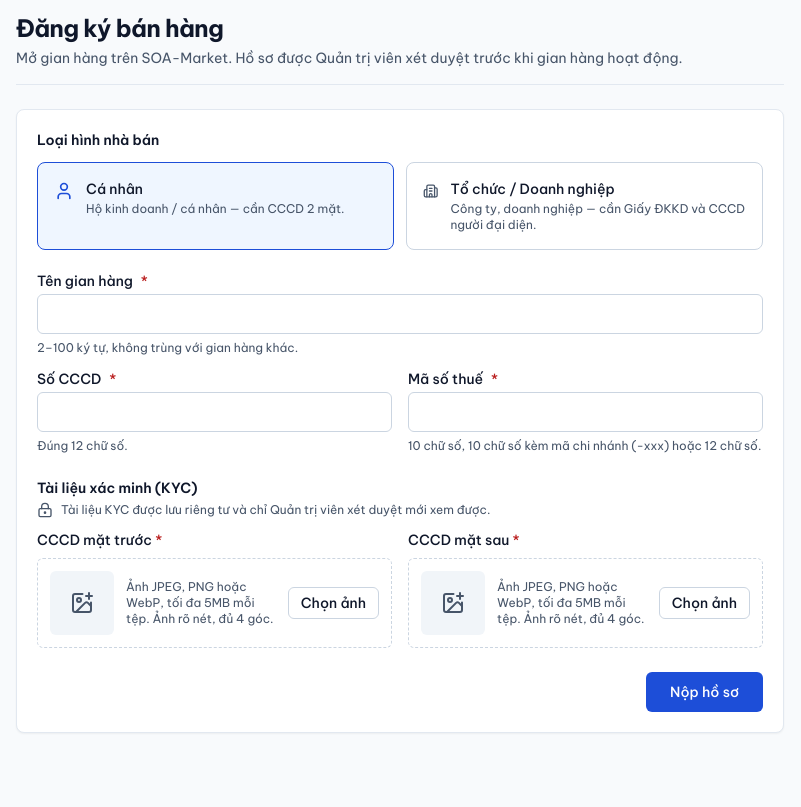
Test: SellerOnboardingPage (/seller-onboarding — FR-SEL-001) › switches documents and identity label for ORGANIZATION
Expected: the button "Nộp hồ sơ" is shown, [646,672,763,712]
Click the text "Tổ chức / Doanh nghiệp".
click(533, 189)  # box [450,180,615,198]
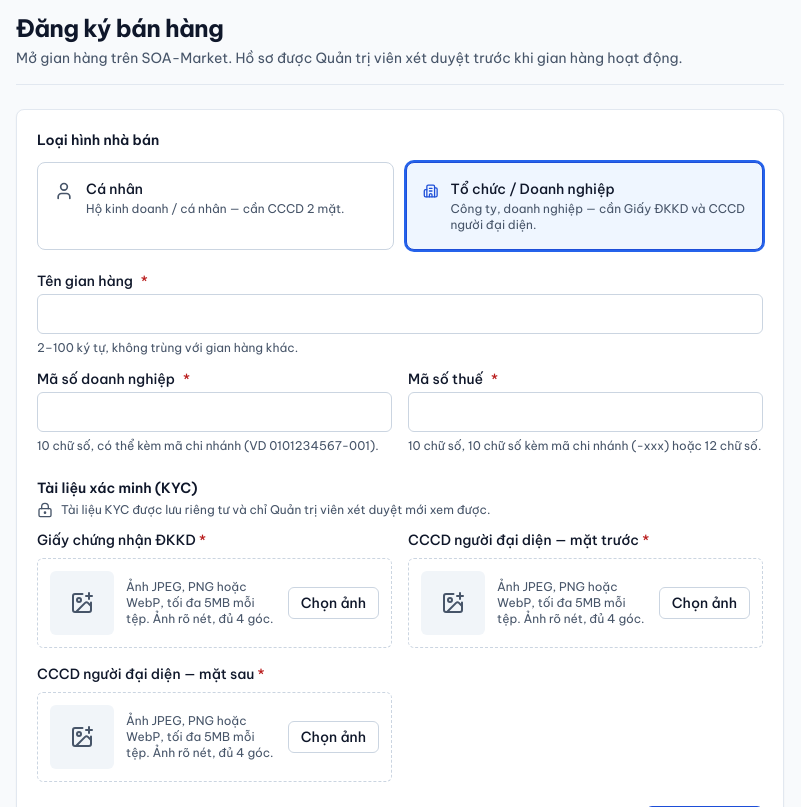
Result: the file field labelled "Giấy chứng nhận ĐKKD *" is shown at [37,531,206,549]
Result: the file field labelled "CCCD người đại diện — mặt trước *" is shown at [408,531,649,549]
Result: the file field labelled "CCCD mặt trước" is gone
